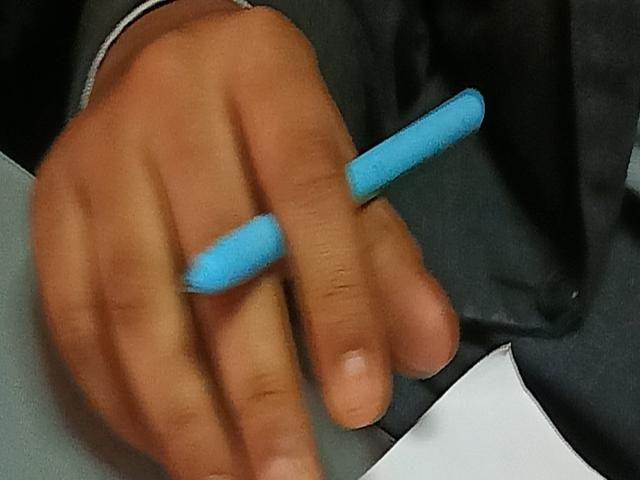PEN: (155, 70, 504, 319)
